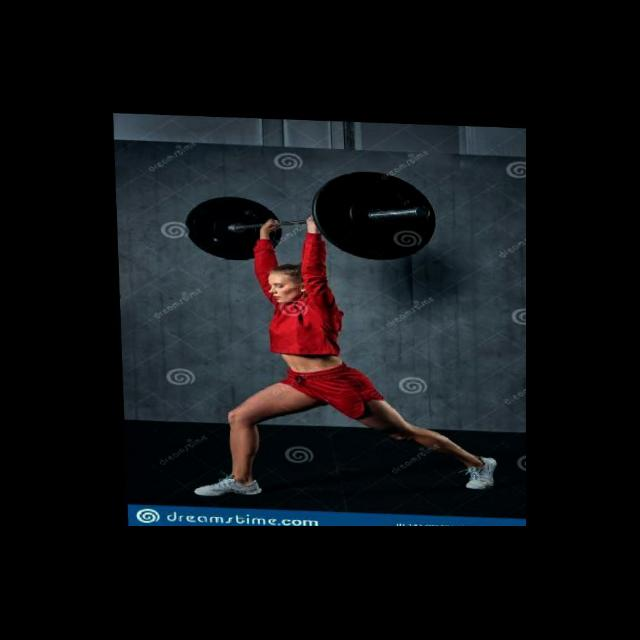barbell: (312, 165, 438, 262)
